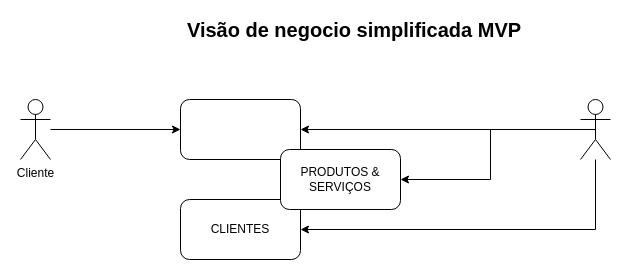
The diagram is 633 pixels wide and 277 high, and some of its shapes have lost their labels. The shapes that lost their labels are listed below. From the top down, each one's centre as x and y in pixels, then its label:
At (240,129): "PEDIDOS".
At (595,129): "Usuário".
